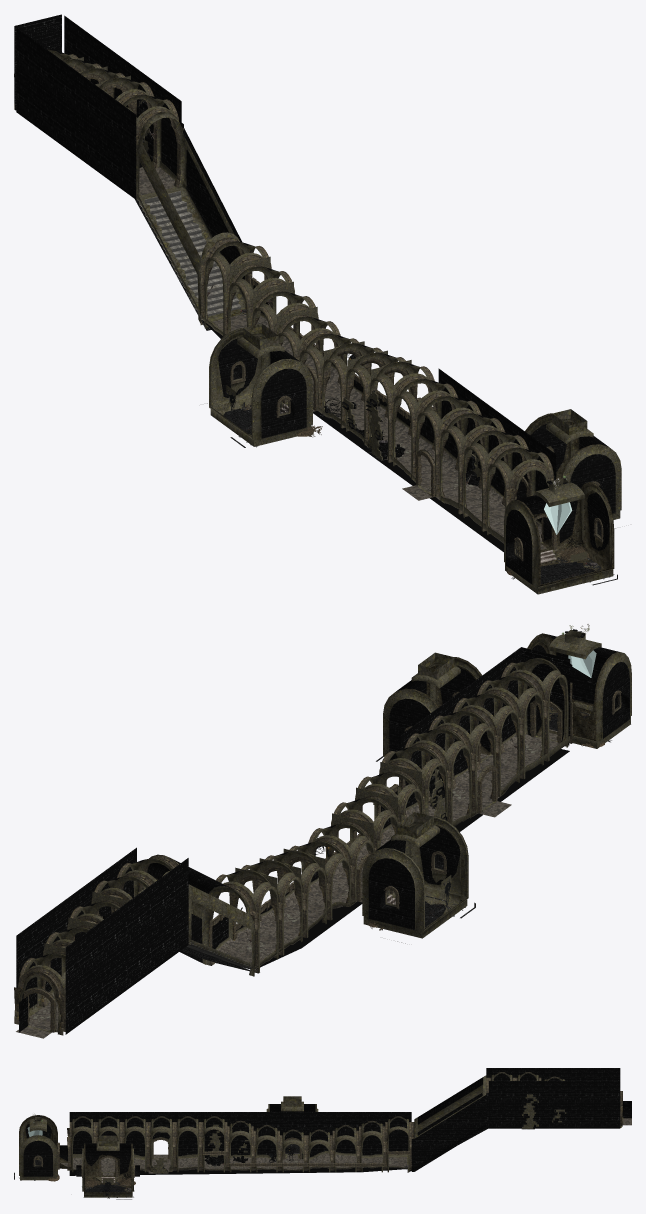
File: map12.fbx
The picture shows the model from 3 angles, top to bottom: view 1: azimuth 30°, elevation 25°; view 2: azimuth 150°, elevation 25°; view 3: azimuth 270°, elevation 25°; orthographic projection. The views are drawn at different scales.
Parts seen in each view (by area): view 1: m0010B1A18, m0015B1A18, m0001B1A18, m0005B1A18, m0000B1A18; view 2: m0010B1A18, m0015B1A18, m0005B1A18, m0001B1A18, m0000B1A18; view 3: m0010B1A18, m0015B1A18, m0000B1A18, m0001B1A18, m0005B1A18.
Boxes of the visible parts, left/top/right/bottom form: m0010B1A18: left=200, top=241, right=556, bottom=551; m0015B1A18: left=14, top=14, right=246, bottom=330; m0001B1A18: left=504, top=475, right=617, bottom=594; m0005B1A18: left=207, top=323, right=322, bottom=447; m0000B1A18: left=516, top=409, right=621, bottom=528; m0010B1A18: left=209, top=647, right=572, bottom=976; m0015B1A18: left=14, top=847, right=256, bottom=1038; m0005B1A18: left=361, top=812, right=475, bottom=943; m0001B1A18: left=527, top=623, right=631, bottom=748; m0000B1A18: left=376, top=652, right=490, bottom=761; m0010B1A18: left=60, top=1112, right=414, bottom=1175; m0015B1A18: left=407, top=1068, right=631, bottom=1172; m0000B1A18: left=76, top=1135, right=139, bottom=1199; m0001B1A18: left=14, top=1113, right=67, bottom=1181; m0005B1A18: left=266, top=1096, right=318, bottom=1158.
Size of the model in its own units: 1458 by 6341 by 1095.
